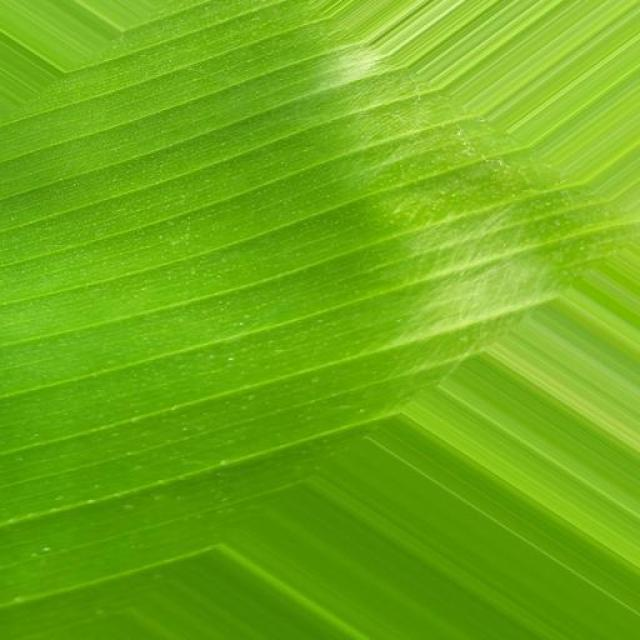Black_leaf_spot: (0, 14, 545, 519)
